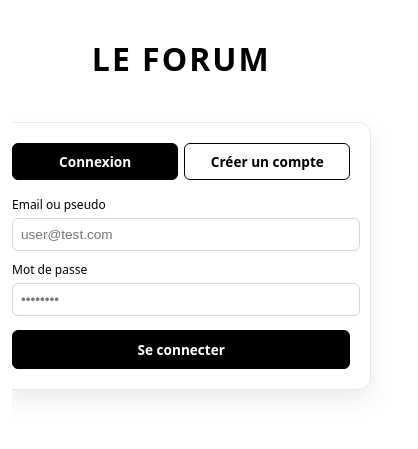
Test: AuthPage - tests front sans backend › cliquer sur 'Créer un compte' affiche le formulaire d'inscription (email, pseudo, mot de passe)
Click the button "Créer un compte".
click(267, 162)  # box x1=184 y1=143 x2=350 y2=180
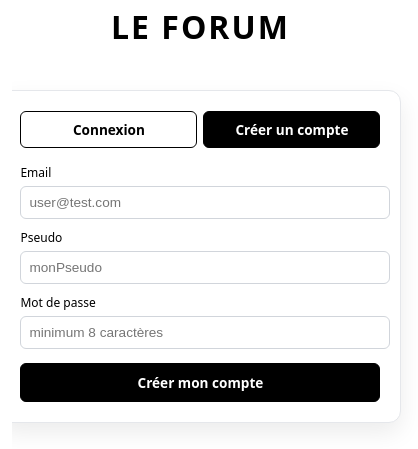
Now the field labelled "Pseudo" is shown, box x1=20 y1=250 x2=390 y2=284
Now the password field labelled "Mot de passe" is shown, box x1=20 y1=316 x2=390 y2=348
Now the label labelled "Email ou pseudo" is gone
